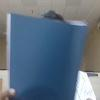notebook: (6, 11, 89, 99)
